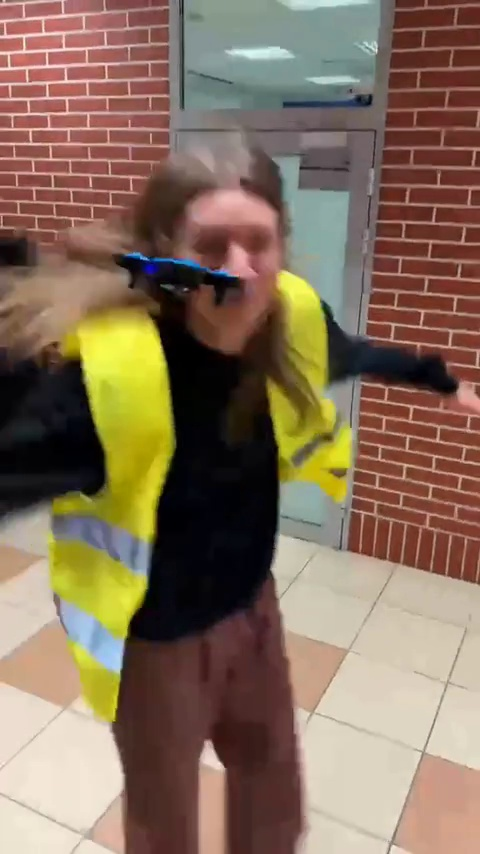drone: (113, 247, 245, 309)
vest: (12, 135, 358, 850)
